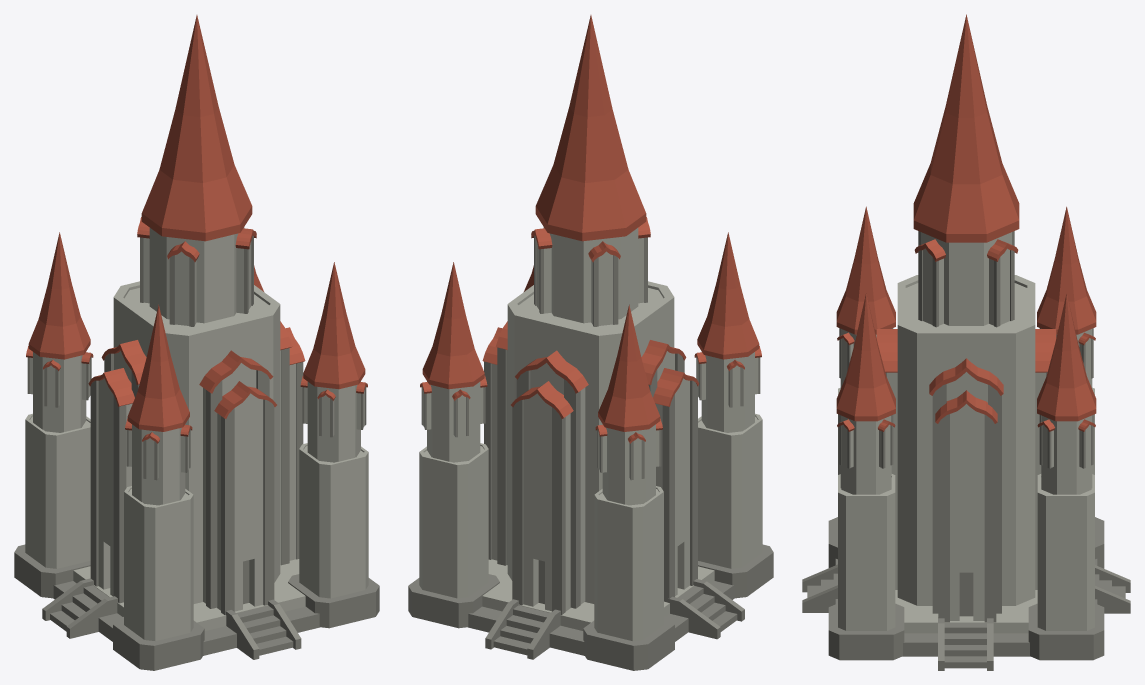
Rendered from Temple-CE2Mn7lh6A.glb.
3 renders of one model, left to right at view 1: azimuth 30°, elevation 25°; view 2: azimuth 150°, elevation 25°; view 3: azimuth 270°, elevation 25°, orthographic.
Parts seen in each view (by area): view 1: Temple-CE2Mn7lh6A; view 2: Temple-CE2Mn7lh6A; view 3: Temple-CE2Mn7lh6A.
Boxes of the visible parts, box(x1,y1,x2,y2) form: Temple-CE2Mn7lh6A: box(14, 15, 379, 670); Temple-CE2Mn7lh6A: box(408, 15, 773, 670); Temple-CE2Mn7lh6A: box(802, 14, 1130, 670).
Bounding box in the file's own units: 4.38 × 8.66 × 4.38.
